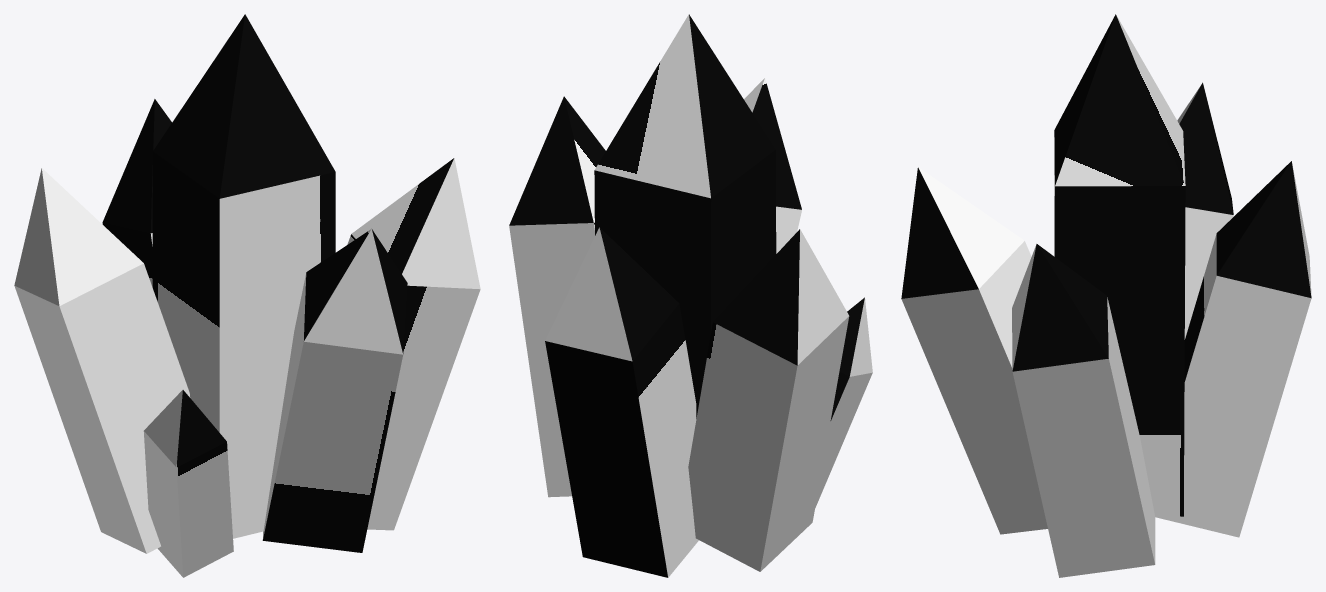
The picture shows the model from 3 angles, left to right: view 1: azimuth 30°, elevation 25°; view 2: azimuth 150°, elevation 25°; view 3: azimuth 270°, elevation 25°; orthographic projection. The views are drawn at different scales.
Parts seen in each view (by area): view 1: Main_Cone; view 2: Main_Cone; view 3: Main_Cone.
Boxes of the visible parts, box(x1,y1,x2,y2) form: Main_Cone: box(14, 14, 480, 577); Main_Cone: box(509, 14, 872, 577); Main_Cone: box(901, 14, 1311, 577).
Size of the model in its own units: 1.56 by 2.15 by 1.58.
